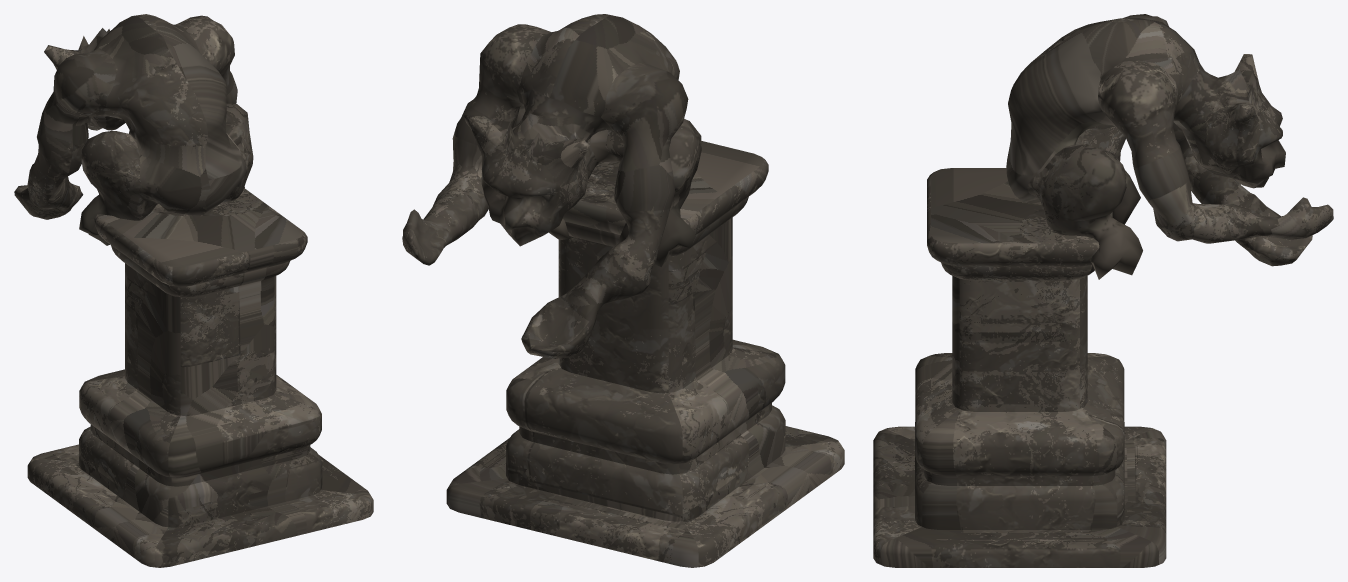
Rendered from SM_PRP_GargoyleStand_RightArm.fbx.
The picture shows the model from 3 angles, left to right: view 1: azimuth 30°, elevation 25°; view 2: azimuth 150°, elevation 25°; view 3: azimuth 270°, elevation 25°; orthographic projection. The views are drawn at different scales.
Parts seen in each view (by area): view 1: m_GargoyleBody_low; view 2: m_GargoyleBody_low; view 3: m_GargoyleBody_low.
Part boxes in pixels (x1,y1,x2,y2): m_GargoyleBody_low: (14,14,373,567); m_GargoyleBody_low: (402,14,844,567); m_GargoyleBody_low: (873,14,1333,567).
Bounding box in the file's own units: 318 × 580 × 500.
